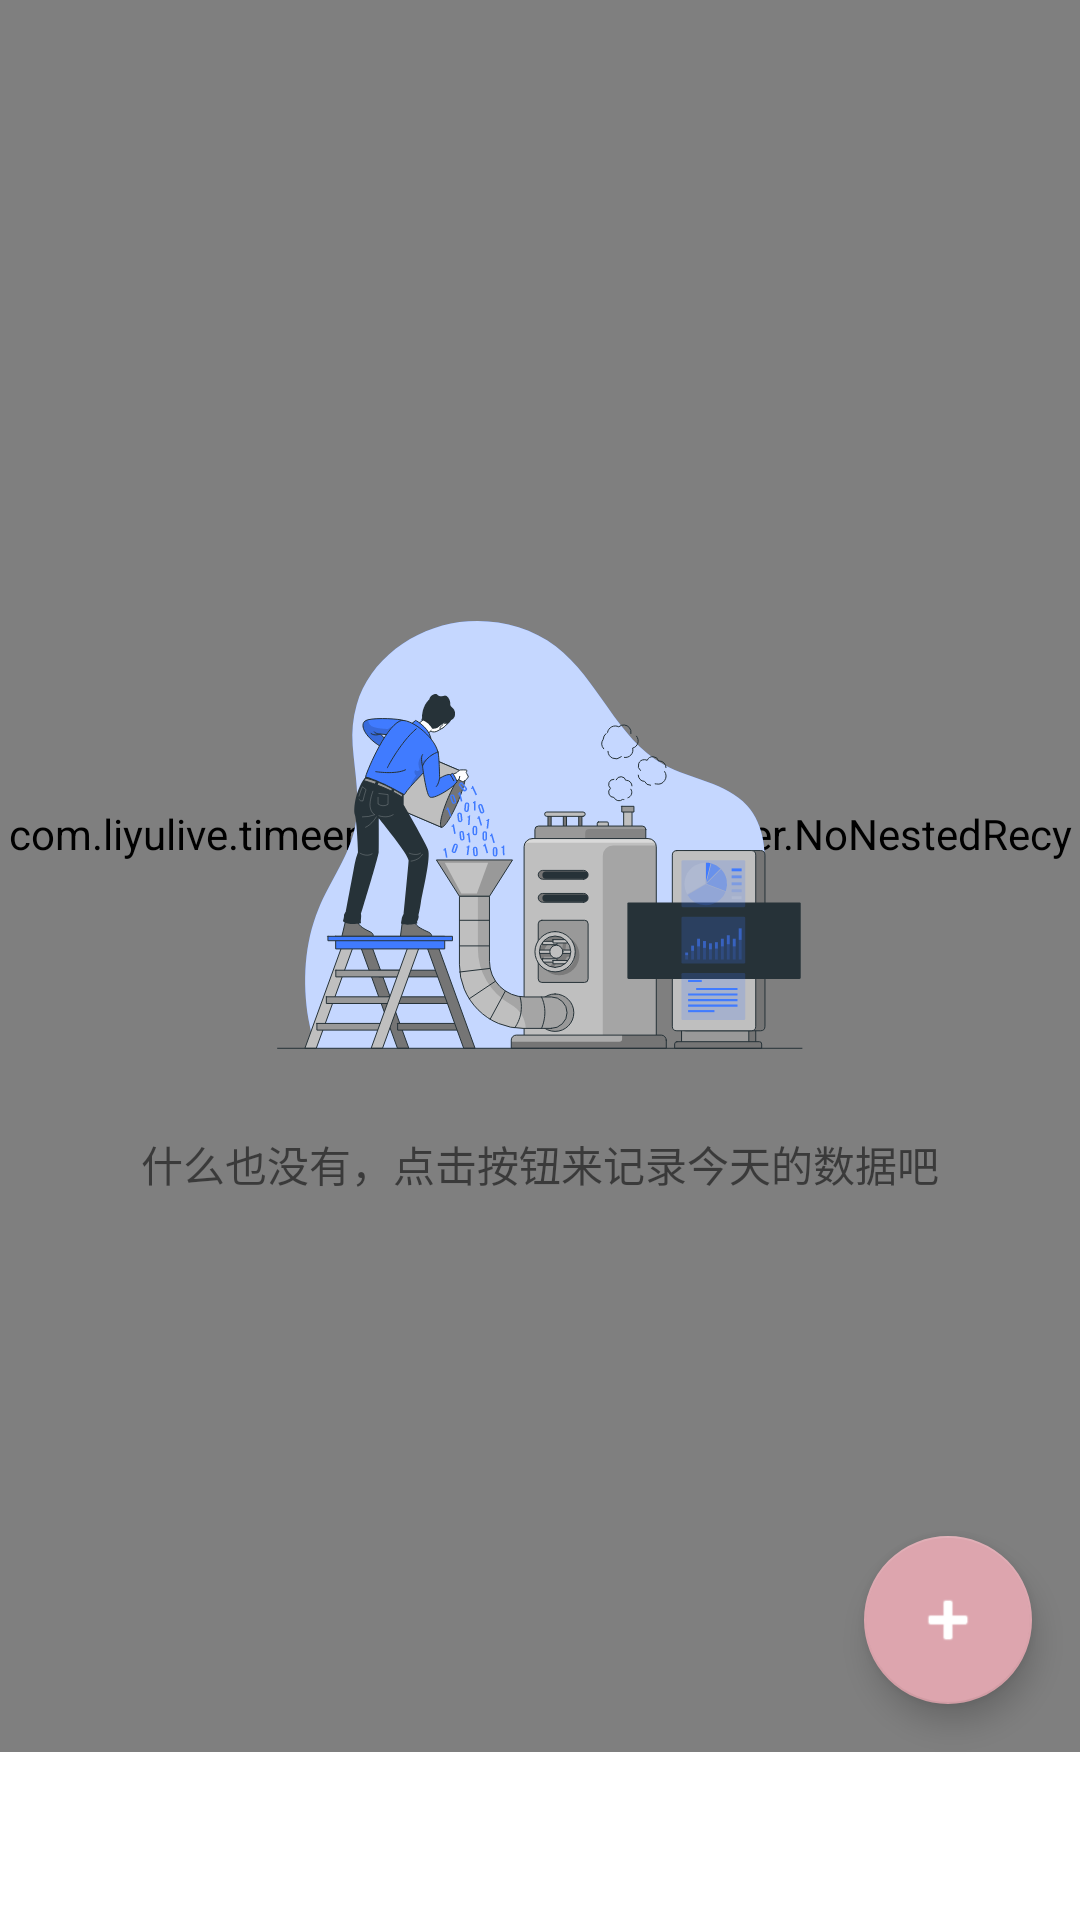

Icon bounding boxes for this 1080px×1920px phone screenshot, format Rect(x1, y1, x2, y2):
add: Rect(864, 1536, 1032, 1704)
